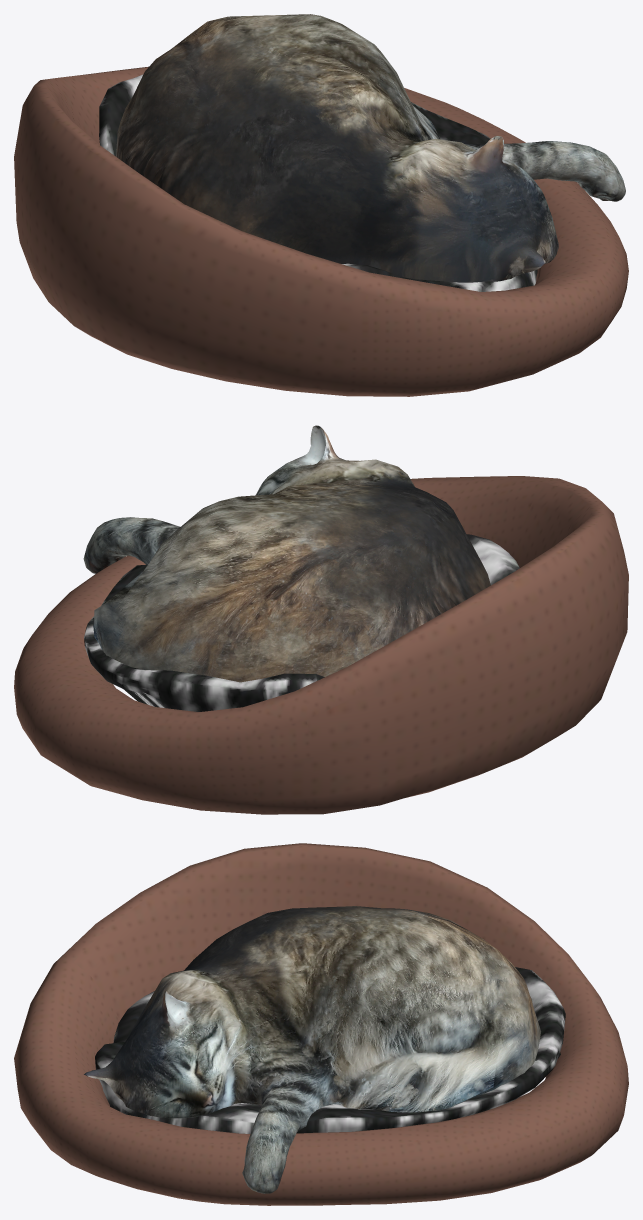
Rendered from Cat&Bed.glb.
The picture shows the model from 3 angles, top to bottom: view 1: azimuth 30°, elevation 25°; view 2: azimuth 150°, elevation 25°; view 3: azimuth 270°, elevation 25°; orthographic projection. The views are drawn at different scales.
Parts seen in each view (by area): view 1: SM_Cat; view 2: SM_Cat; view 3: SM_Cat.
Boxes of the visible parts, left/top/right/bottom form: SM_Cat: left=14, top=14, right=628, bottom=396; SM_Cat: left=14, top=425, right=628, bottom=814; SM_Cat: left=14, top=843, right=628, bottom=1205.
Bounding box in the file's own units: 0.4841 × 0.1865 × 0.5488.
1 material, 1 textured.
